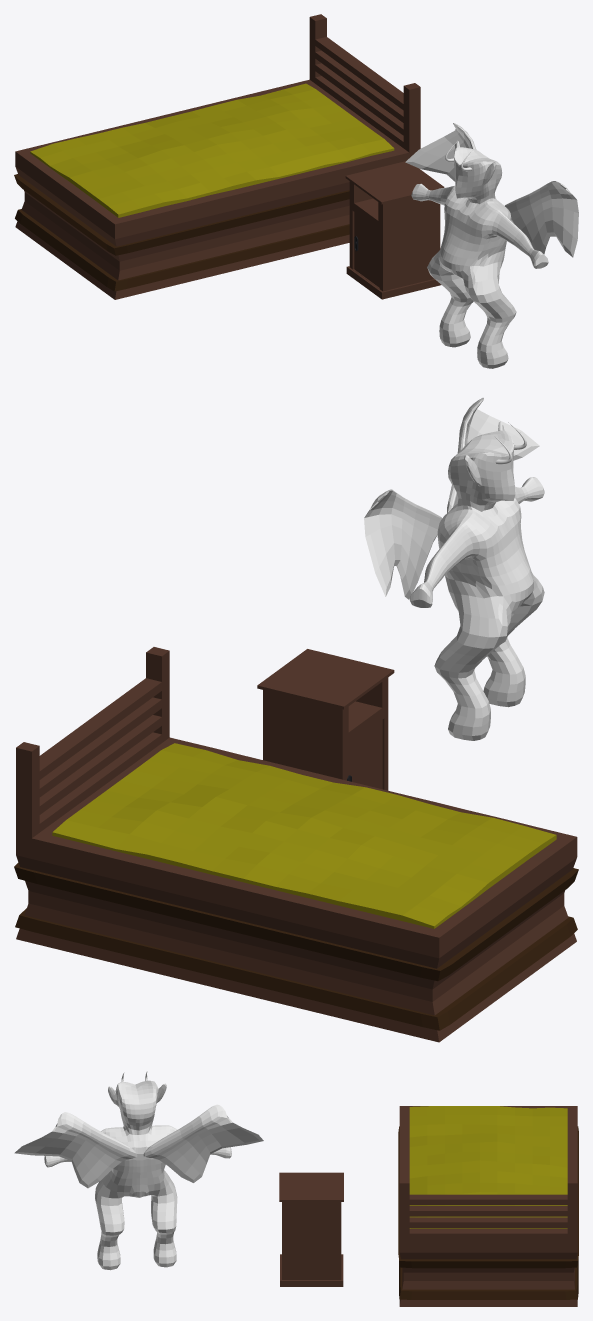
Rendered from Expo4.fbx.
3 views of the same model, one above another, from view 1: azimuth 30°, elevation 25°; view 2: azimuth 150°, elevation 25°; view 3: azimuth 270°, elevation 25° (orthographic). The views are drawn at different scales.
Parts seen in each view (by area): view 1: Bett, Wicht-Spiegel, Nachttisch; view 2: Bett, Wicht-Spiegel, Nachttisch; view 3: Bett, Wicht-Spiegel, Nachttisch.
Boxes of the visible parts, bbox=[...] form: Bett: bbox=[14, 14, 420, 299]; Wicht-Spiegel: bbox=[405, 123, 578, 368]; Nachttisch: bbox=[345, 161, 444, 299]; Bett: bbox=[14, 647, 578, 1042]; Wicht-Spiegel: bbox=[364, 397, 544, 740]; Nachttisch: bbox=[257, 649, 394, 790]; Bett: bbox=[398, 1106, 578, 1306]; Wicht-Spiegel: bbox=[14, 1071, 263, 1270]; Nachttisch: bbox=[279, 1172, 343, 1286].
Bounding box in the file's own units: 298 × 195 × 526.
